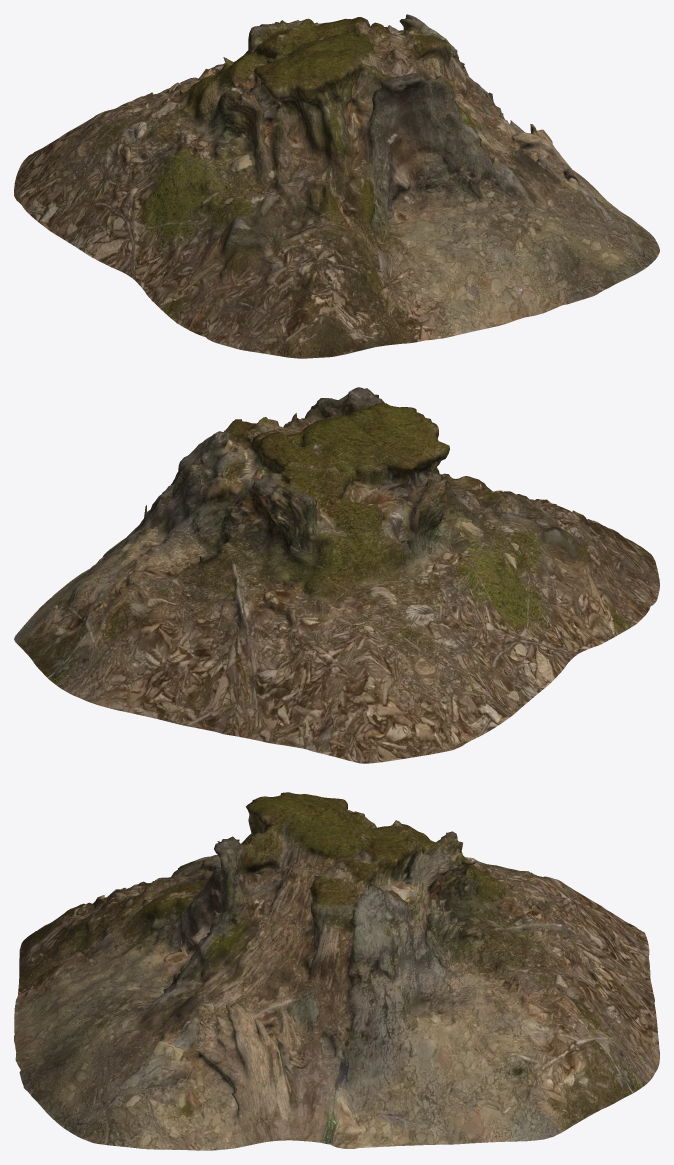
File: tree_stump_01.glb
3 renders of one model, top to bottom at view 1: azimuth 30°, elevation 25°; view 2: azimuth 150°, elevation 25°; view 3: azimuth 270°, elevation 25°, orthographic. The views are drawn at different scales.
Parts seen in each view (by area): view 1: tree_stump_01; view 2: tree_stump_01; view 3: tree_stump_01.
Boxes of the visible parts, x1,y1,x2,y2 form: tree_stump_01: [14, 14, 659, 358]; tree_stump_01: [14, 387, 659, 763]; tree_stump_01: [14, 792, 659, 1150].
Size of the model in its own units: 1.43 by 0.5726 by 1.59.
1 material, 1 textured.
